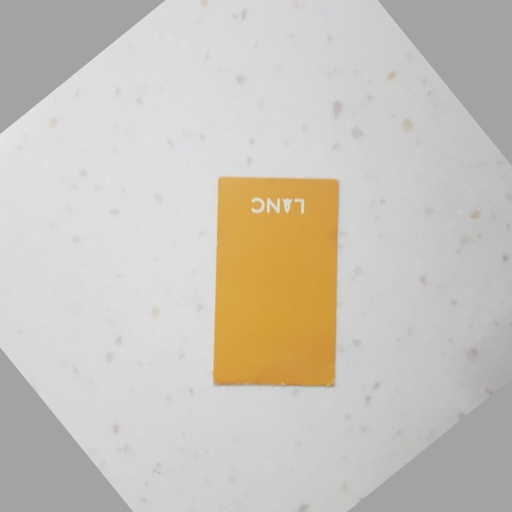Paper_2: (207, 171, 349, 409)
